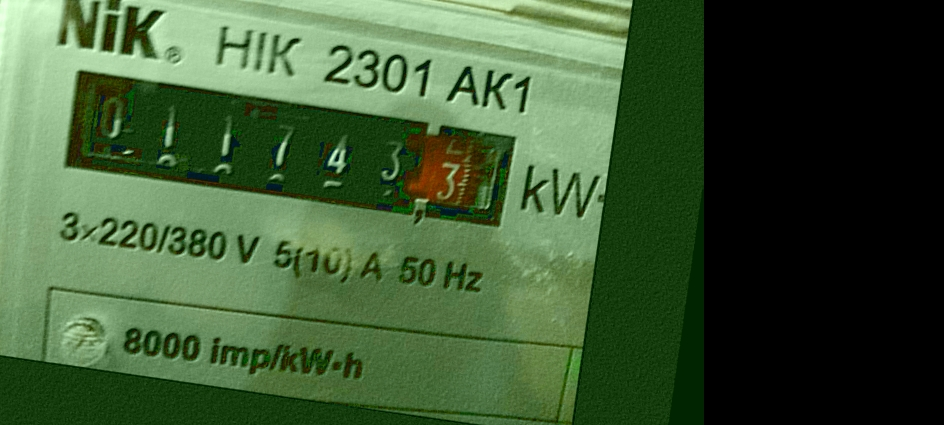0: (95, 92, 130, 142)
1: (213, 110, 241, 160), (159, 102, 182, 152)
3: (375, 135, 410, 186), (433, 158, 463, 205)
4: (322, 127, 356, 178)
7: (268, 120, 299, 171)
screen: (47, 58, 525, 241)
